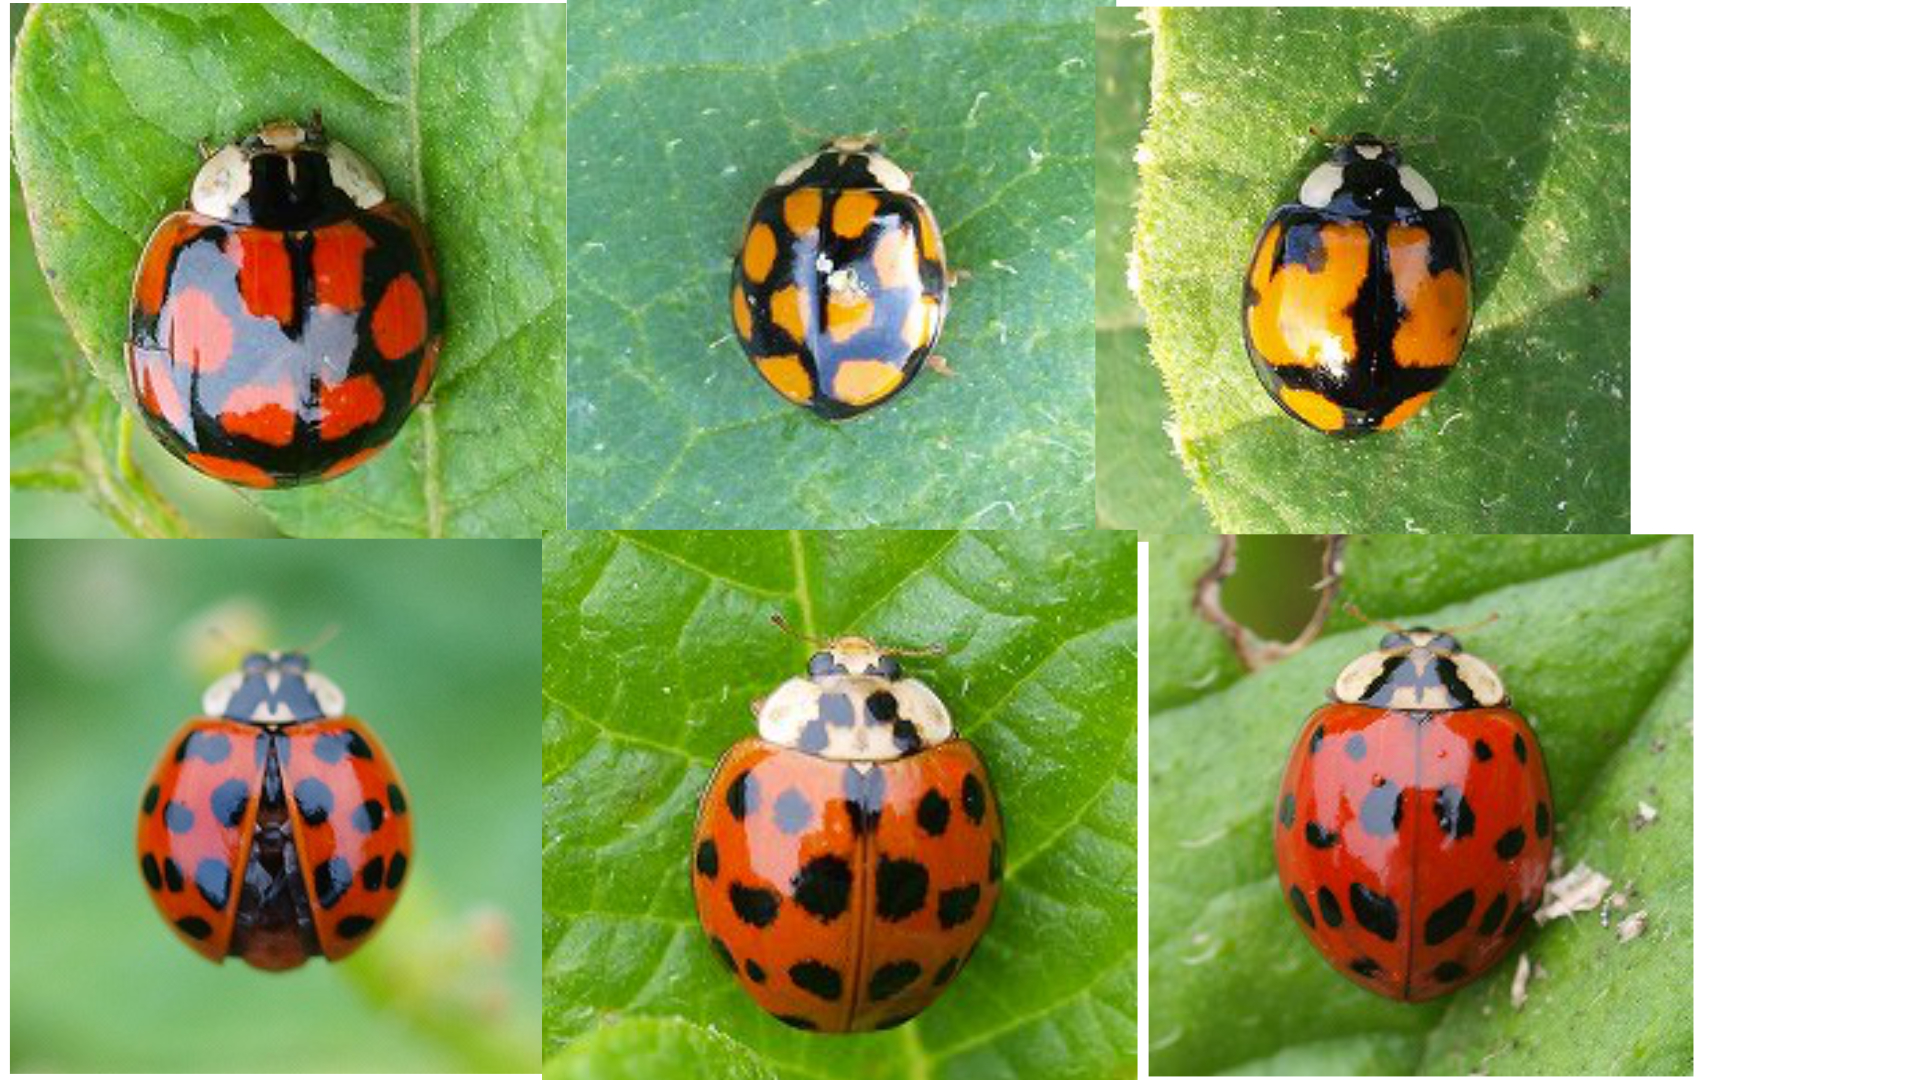other: (1237, 146, 1480, 444)
rash: (124, 113, 444, 489), (732, 142, 949, 415)
red: (688, 634, 1000, 1027), (1266, 625, 1553, 996), (135, 646, 409, 972)
